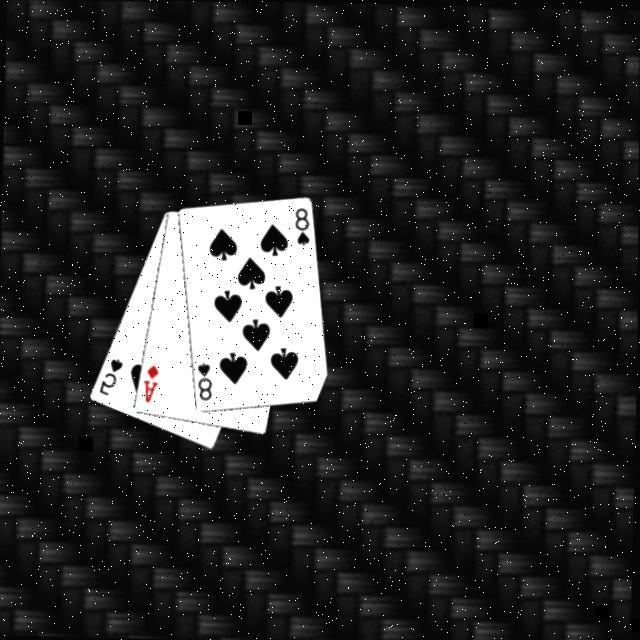5S: (97, 357, 127, 399)
8S: (194, 361, 216, 405), (292, 207, 314, 249)
AD: (141, 363, 162, 407)
